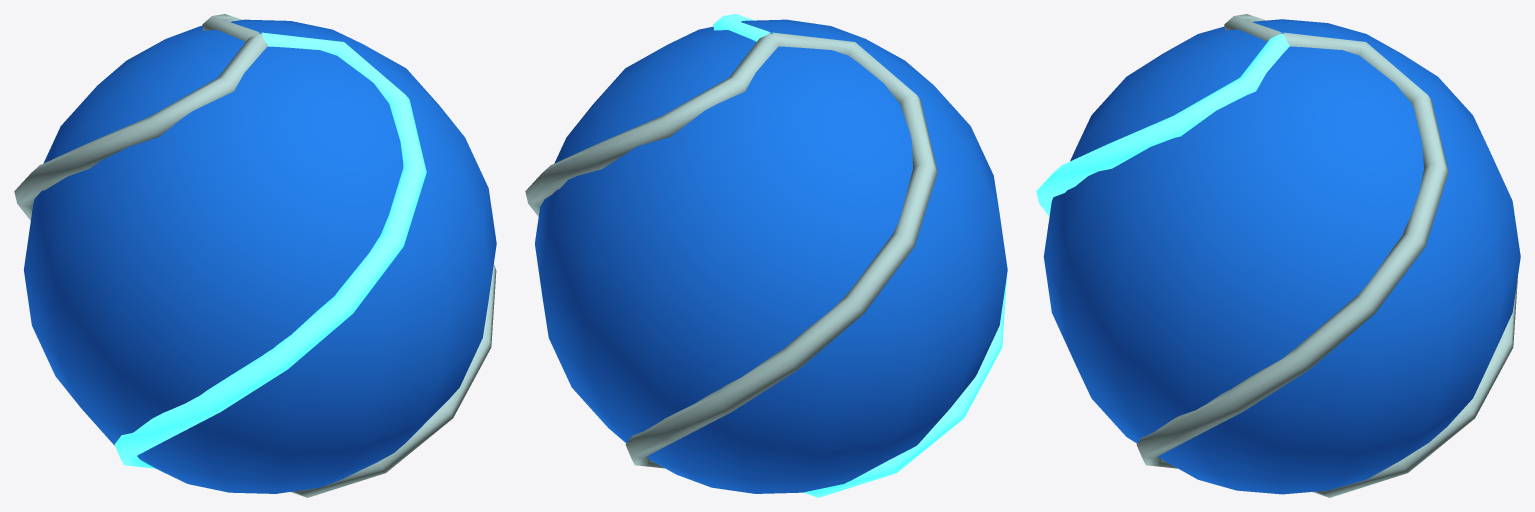
Rendered from mia-marble.glb.
3 renders of one model, left to right at view 1: azimuth 30°, elevation 25°; view 2: azimuth 150°, elevation 25°; view 3: azimuth 270°, elevation 25°, orthographic.
Parts seen in each view (by area): view 1: Body_marble-blue, Body_cyan, Body_marble-light; view 2: Body_marble-blue, Body_marble-light, Body_cyan; view 3: Body_marble-blue, Body_marble-light, Body_cyan.
Boxes of the visible parts, box(x1,y1,x2,y2) form: Body_marble-blue: box(24, 19, 496, 493); Body_cyan: box(114, 32, 426, 468); Body_marble-light: box(14, 14, 496, 497); Body_marble-blue: box(535, 19, 1007, 493); Body_marble-light: box(525, 32, 937, 468); Body_cyan: box(713, 14, 1006, 497); Body_marble-blue: box(1043, 19, 1520, 494); Body_marble-light: box(1136, 14, 1517, 497); Body_cyan: box(1036, 33, 1289, 216).
Size of the model in its own units: 0.122 by 0.1224 by 0.1199.
